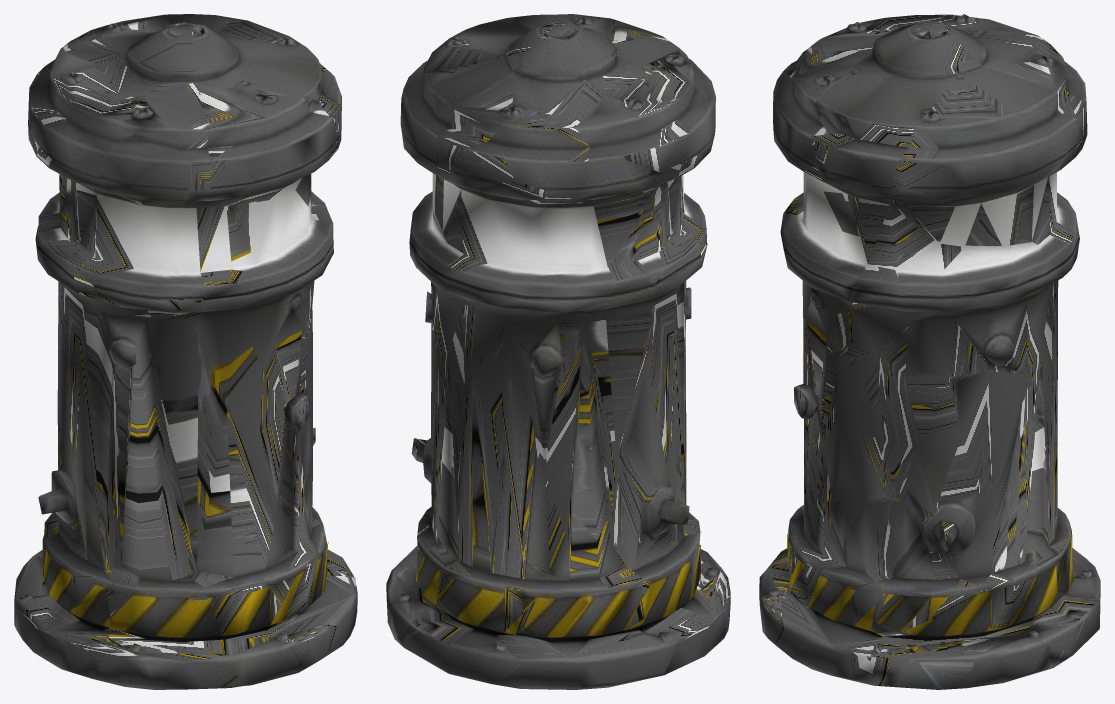
The model's file is trial_beacon.glb.
3 views of the same model, side by side, from view 1: azimuth 30°, elevation 25°; view 2: azimuth 150°, elevation 25°; view 3: azimuth 270°, elevation 25° (orthographic).
Parts seen in each view (by area): view 1: tripo_node_afc9ff6d-c8a0-4293-88f3-b9e8d10d7727; view 2: tripo_node_afc9ff6d-c8a0-4293-88f3-b9e8d10d7727; view 3: tripo_node_afc9ff6d-c8a0-4293-88f3-b9e8d10d7727.
Part boxes in pixels (<box>): tripo_node_afc9ff6d-c8a0-4293-88f3-b9e8d10d7727: <box>14,14,357,689</box>; tripo_node_afc9ff6d-c8a0-4293-88f3-b9e8d10d7727: <box>386,14,730,689</box>; tripo_node_afc9ff6d-c8a0-4293-88f3-b9e8d10d7727: <box>759,14,1100,689</box>.
Bounding box in the file's own units: 0.5277 × 0.9991 × 0.5235.
1 material, 1 textured.
